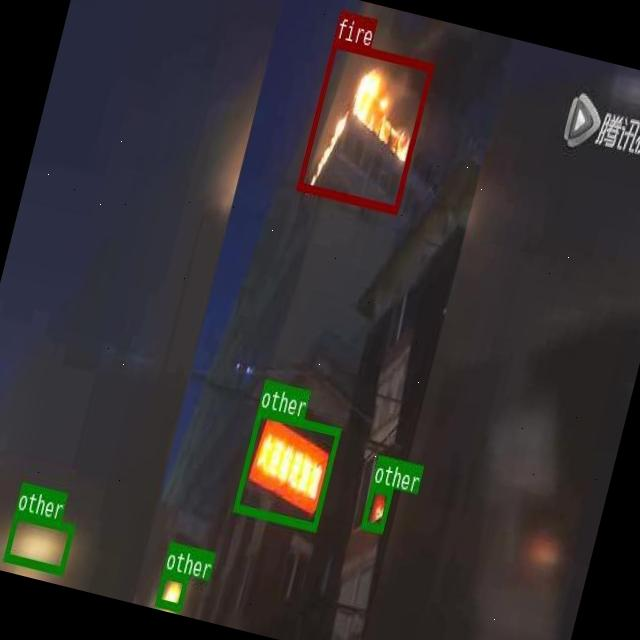fire: (296, 38, 434, 212)
